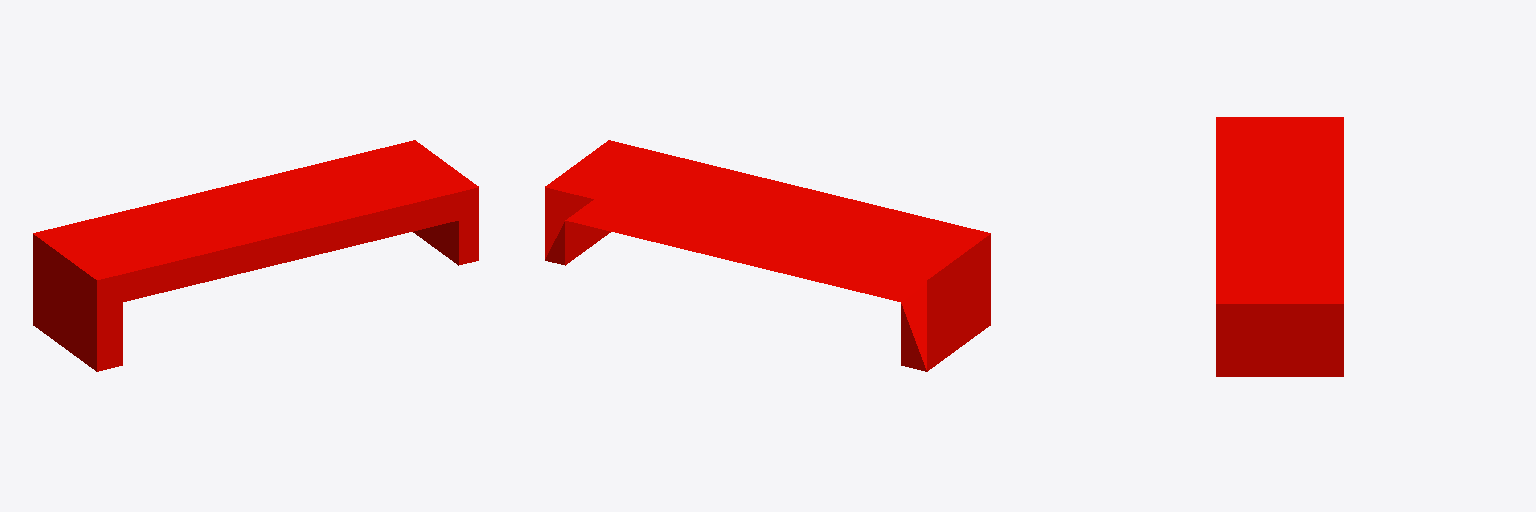
Rendered from StraightC_planar_robot_blender.obj.
3 renders of one model, left to right at view 1: azimuth 30°, elevation 25°; view 2: azimuth 150°, elevation 25°; view 3: azimuth 270°, elevation 25°, orthographic.
Visible parts, largest first — view 1: instance_0_ID3.006; view 2: instance_0_ID3.006; view 3: instance_0_ID3.006.
Boxes of the visible parts, box(x1,y1,x2,y2) form: instance_0_ID3.006: box(33, 140, 478, 371); instance_0_ID3.006: box(545, 140, 990, 371); instance_0_ID3.006: box(1216, 117, 1343, 376).
Bounding box in the file's own units: 27 × 6.17 × 7.87.